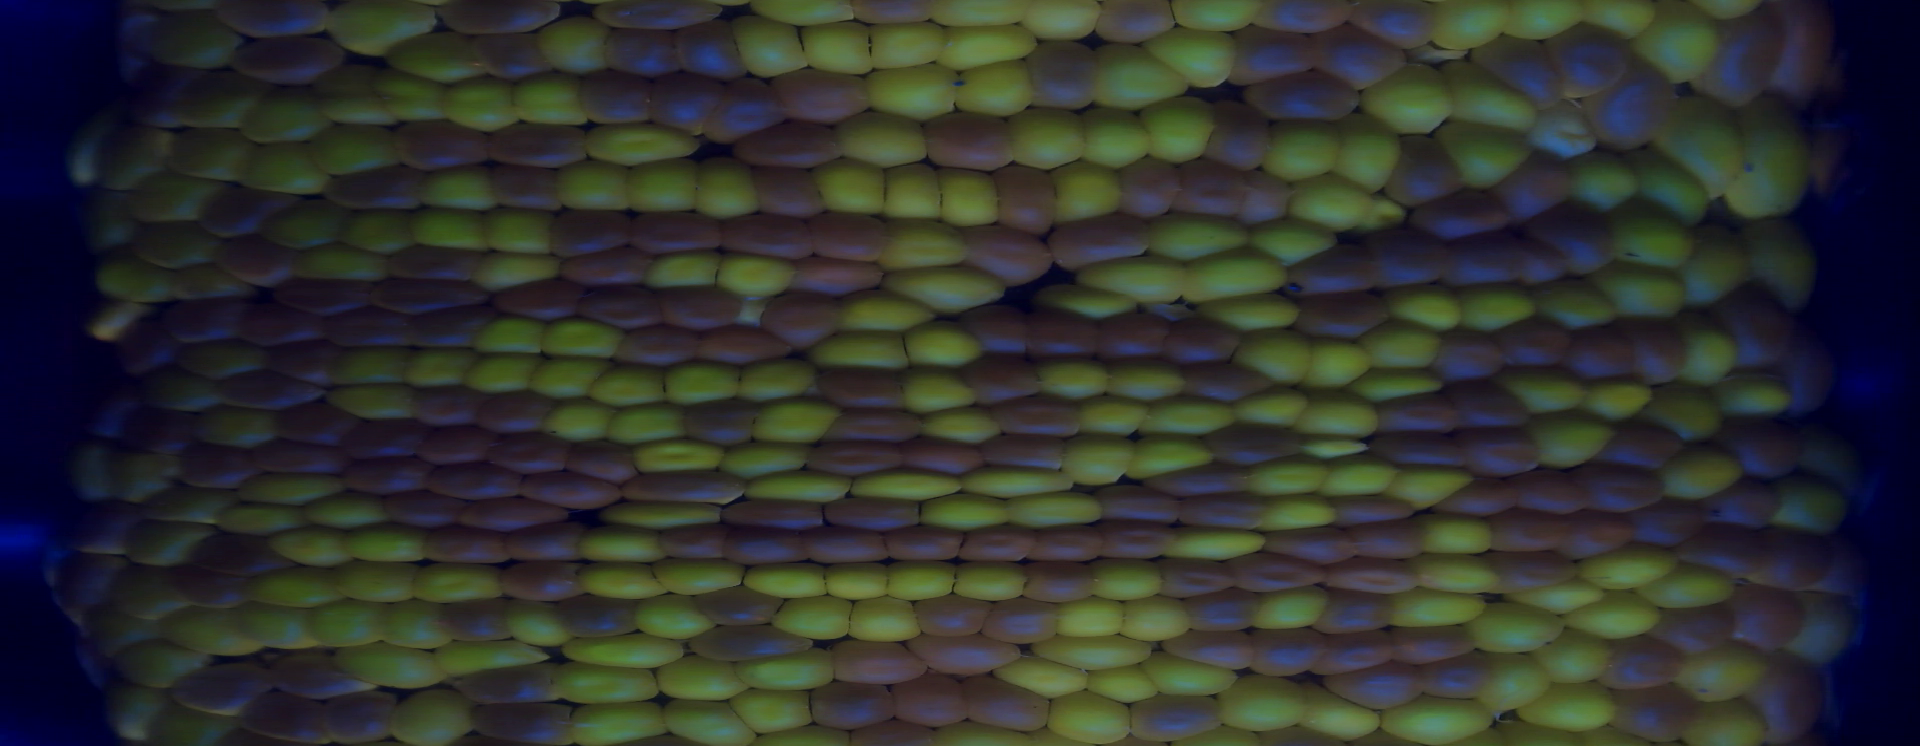fluorescent: (1728, 97, 1810, 217), (1656, 99, 1742, 194), (1438, 118, 1534, 186), (1633, 2, 1720, 77), (1440, 60, 1532, 130), (1610, 194, 1689, 274), (1360, 66, 1450, 134), (1092, 44, 1188, 107), (1633, 148, 1713, 223), (1078, 255, 1194, 304), (328, 2, 438, 53), (887, 268, 1011, 312), (1747, 220, 1813, 303), (338, 642, 447, 691), (1678, 639, 1769, 697), (1144, 26, 1233, 85), (149, 9, 240, 66), (1183, 254, 1288, 303), (1382, 697, 1493, 744), (1146, 209, 1250, 258), (838, 111, 928, 167), (1682, 228, 1747, 304), (1213, 676, 1300, 733), (729, 13, 808, 75), (393, 688, 478, 746), (238, 89, 329, 142), (171, 127, 255, 185), (869, 66, 962, 118), (1598, 263, 1682, 320), (1078, 104, 1155, 165), (93, 127, 171, 187), (388, 34, 486, 82), (442, 75, 522, 134), (1008, 107, 1085, 167), (1468, 604, 1562, 653), (1643, 561, 1738, 610), (1142, 96, 1213, 160), (553, 661, 655, 707), (588, 122, 702, 163), (1298, 679, 1378, 736), (1528, 412, 1613, 465), (242, 145, 328, 197), (664, 695, 760, 741), (170, 606, 262, 655), (1658, 443, 1741, 497), (118, 637, 204, 688), (958, 60, 1035, 118), (1338, 111, 1396, 189), (317, 69, 396, 125), (509, 72, 589, 127), (129, 173, 216, 223), (1287, 176, 1368, 230), (111, 567, 189, 624), (605, 499, 726, 534), (309, 127, 400, 174), (1533, 282, 1618, 332), (878, 222, 969, 268), (694, 157, 760, 220), (539, 16, 613, 72), (808, 332, 912, 372), (996, 657, 1093, 699), (1389, 587, 1487, 630), (1269, 116, 1337, 178), (624, 160, 700, 216), (818, 157, 889, 216), (1146, 652, 1238, 697), (656, 657, 746, 703), (180, 73, 257, 127), (1232, 332, 1313, 383), (262, 202, 345, 251), (294, 241, 392, 283), (1483, 650, 1549, 712), (838, 292, 932, 334), (1566, 594, 1660, 637), (1776, 477, 1843, 537), (1685, 697, 1767, 746), (937, 24, 1038, 64), (1035, 635, 1155, 668), (1053, 162, 1120, 220), (242, 603, 323, 652), (735, 650, 833, 691), (1251, 218, 1338, 263), (1523, 684, 1615, 726), (1500, 365, 1584, 412), (1367, 321, 1442, 372), (1296, 388, 1375, 437), (173, 341, 263, 383), (1570, 153, 1637, 211), (195, 403, 278, 450), (1048, 692, 1131, 739), (1548, 627, 1618, 682), (718, 254, 796, 303), (576, 524, 662, 568), (307, 600, 389, 647), (372, 67, 444, 120), (127, 521, 207, 568), (1680, 318, 1736, 386), (1201, 292, 1300, 330), (803, 22, 873, 76), (1651, 387, 1720, 441), (110, 682, 173, 742), (1005, 492, 1101, 532), (938, 168, 1003, 225), (246, 571, 348, 608), (567, 707, 669, 744), (347, 522, 429, 567), (1065, 432, 1134, 486), (555, 160, 628, 211), (562, 637, 682, 668), (269, 526, 353, 570), (415, 563, 503, 605), (528, 356, 609, 402), (1124, 434, 1215, 474), (103, 447, 168, 503), (1573, 548, 1673, 584), (733, 687, 813, 733), (1719, 372, 1799, 418), (846, 594, 923, 641), (631, 439, 725, 477), (872, 21, 947, 69), (140, 367, 220, 412), (1382, 282, 1461, 327), (885, 159, 942, 222), (1382, 467, 1469, 507), (433, 642, 547, 673), (1042, 282, 1136, 318), (1106, 356, 1184, 401), (1429, 2, 1505, 48), (752, 402, 836, 442), (738, 360, 816, 404), (1253, 586, 1330, 630), (413, 168, 493, 209), (485, 208, 557, 255), (542, 321, 621, 364), (634, 597, 713, 639), (1460, 282, 1536, 326), (340, 211, 414, 256), (336, 563, 413, 606), (651, 559, 744, 594), (851, 472, 959, 502), (962, 465, 1074, 495), (1164, 530, 1267, 562), (94, 257, 167, 303), (773, 597, 853, 637), (665, 363, 741, 405), (1147, 397, 1233, 435), (909, 322, 978, 369), (503, 600, 573, 647), (542, 394, 609, 443), (136, 227, 213, 268), (410, 208, 487, 250), (475, 254, 560, 292), (1413, 554, 1498, 592), (463, 352, 538, 394), (1056, 595, 1124, 642), (1079, 392, 1147, 439), (377, 601, 442, 650), (216, 502, 305, 538), (609, 403, 684, 445), (953, 559, 1029, 600), (242, 473, 345, 503), (743, 562, 831, 598), (153, 707, 233, 746), (1308, 336, 1371, 385), (146, 488, 228, 526), (921, 492, 1005, 529), (331, 349, 407, 390), (322, 391, 418, 423), (905, 370, 973, 414), (591, 366, 669, 405), (1254, 457, 1333, 495), (746, 472, 852, 500), (1124, 594, 1190, 639), (647, 252, 722, 292), (309, 490, 389, 527), (580, 563, 661, 600), (722, 442, 808, 477), (1091, 559, 1160, 601), (1082, 664, 1160, 702), (1423, 514, 1490, 557), (1584, 380, 1653, 421), (1319, 461, 1393, 499), (70, 443, 114, 507), (87, 609, 154, 650), (887, 562, 960, 600), (1261, 492, 1335, 530), (1040, 356, 1108, 397), (1026, 2, 1098, 40), (475, 317, 545, 356), (1505, 2, 1584, 37), (1506, 584, 1602, 612), (1353, 367, 1441, 397), (1236, 390, 1308, 425), (405, 350, 473, 388), (1583, 4, 1658, 37), (173, 266, 244, 299), (93, 190, 133, 247), (827, 567, 893, 598), (1367, 194, 1406, 232), (1307, 436, 1373, 458)
nonfluorescent: (1589, 51, 1671, 152), (1701, 13, 1780, 107), (1716, 285, 1791, 371), (1469, 34, 1555, 107), (1532, 202, 1616, 272), (1751, 654, 1823, 735), (1244, 72, 1358, 121), (1718, 416, 1804, 481), (1311, 23, 1400, 85), (1553, 22, 1630, 92), (1777, 2, 1831, 100), (1409, 187, 1512, 238), (962, 225, 1052, 283), (230, 37, 343, 82), (784, 65, 872, 122), (1364, 229, 1449, 289), (1229, 26, 1313, 86), (1607, 687, 1697, 742), (1029, 40, 1098, 110), (1387, 136, 1461, 202), (926, 113, 1008, 171), (1727, 586, 1805, 647), (743, 122, 838, 173), (1502, 149, 1569, 220), (1284, 243, 1371, 296), (1296, 292, 1389, 342), (242, 688, 323, 746), (219, 371, 326, 414), (1327, 666, 1427, 712), (490, 122, 591, 167), (269, 654, 373, 697), (173, 666, 268, 713), (1603, 635, 1680, 692), (828, 639, 928, 684), (675, 24, 748, 85), (965, 677, 1051, 729), (193, 532, 288, 578), (322, 167, 421, 211), (216, 1, 331, 39), (913, 632, 1015, 675), (398, 122, 489, 170), (238, 296, 328, 344), (688, 627, 814, 661), (48, 552, 126, 608), (1621, 316, 1686, 382), (624, 472, 749, 506), (1562, 323, 1633, 383), (557, 590, 644, 639), (1449, 235, 1531, 287), (1206, 102, 1269, 169), (1703, 477, 1783, 529), (722, 214, 817, 258), (1583, 461, 1660, 514), (1451, 380, 1526, 435), (807, 682, 898, 728), (580, 67, 650, 126), (203, 187, 291, 234), (629, 213, 722, 257), (1760, 528, 1829, 587), (272, 397, 351, 448), (996, 392, 1081, 440), (962, 353, 1042, 404), (1113, 160, 1184, 218), (1603, 421, 1684, 472), (647, 72, 713, 134), (1052, 217, 1149, 258), (580, 282, 662, 331), (713, 77, 784, 134), (178, 440, 253, 492), (721, 495, 827, 533), (893, 677, 969, 730), (367, 277, 487, 310), (759, 293, 833, 347), (1128, 692, 1226, 733), (789, 254, 880, 296), (1237, 552, 1329, 595), (471, 704, 572, 744), (437, 1, 564, 32), (658, 285, 743, 331), (1502, 318, 1570, 376), (1651, 606, 1734, 653), (1097, 311, 1174, 361), (1487, 507, 1564, 557), (1433, 328, 1502, 383), (1430, 477, 1520, 519), (999, 163, 1053, 234), (517, 472, 624, 507), (1251, 627, 1322, 681), (216, 243, 298, 289), (468, 492, 562, 533), (489, 429, 568, 477), (545, 212, 633, 255), (820, 367, 906, 412), (900, 435, 986, 479), (454, 669, 557, 706), (1185, 361, 1269, 407), (1483, 552, 1576, 593), (1172, 157, 1243, 209), (1269, 527, 1356, 570), (1451, 432, 1538, 475), (411, 383, 484, 435), (1164, 630, 1256, 670), (555, 251, 649, 290), (978, 432, 1073, 472), (680, 398, 757, 446), (422, 526, 508, 568), (498, 562, 587, 604), (1092, 2, 1176, 47), (1212, 428, 1300, 469), (689, 589, 782, 628), (813, 212, 885, 262), (611, 322, 698, 364), (135, 67, 193, 129), (478, 31, 551, 80), (1560, 510, 1633, 559), (606, 31, 683, 77), (403, 310, 489, 352), (1179, 494, 1262, 537), (1392, 624, 1473, 668), (491, 281, 582, 320), (1686, 527, 1764, 572), (337, 458, 430, 496), (758, 167, 820, 223), (119, 312, 175, 375), (1329, 557, 1413, 599), (1029, 306, 1098, 356), (593, 1, 722, 28), (1166, 317, 1240, 364), (250, 439, 343, 475), (1378, 430, 1460, 472), (1351, 519, 1428, 563), (1322, 593, 1393, 641), (476, 391, 549, 437), (969, 307, 1032, 360), (808, 441, 902, 477), (697, 330, 785, 367), (1420, 653, 1488, 702), (1520, 472, 1588, 519), (953, 524, 1031, 566), (1098, 486, 1182, 526), (122, 407, 192, 453), (168, 303, 241, 347), (825, 495, 923, 528), (384, 247, 479, 282), (430, 465, 520, 501), (171, 562, 242, 608), (804, 527, 887, 566), (387, 489, 464, 530), (1316, 630, 1393, 671), (1627, 502, 1704, 544), (508, 521, 583, 563), (351, 416, 424, 461), (1239, 170, 1296, 227), (722, 527, 803, 566), (1378, 394, 1458, 434), (328, 309, 411, 347), (882, 524, 965, 562), (323, 695, 396, 737), (446, 601, 516, 646), (273, 282, 369, 314), (1153, 465, 1245, 499), (267, 339, 336, 383), (1156, 559, 1236, 597), (568, 442, 640, 484), (493, 167, 561, 211), (825, 412, 918, 443), (78, 508, 142, 555), (913, 597, 984, 638), (1022, 563, 1093, 605), (424, 428, 496, 468), (1188, 590, 1261, 630), (1031, 526, 1107, 562), (1333, 494, 1416, 527), (988, 601, 1054, 642), (1513, 234, 1569, 282), (660, 523, 729, 561), (1100, 524, 1171, 560), (97, 392, 140, 441)
